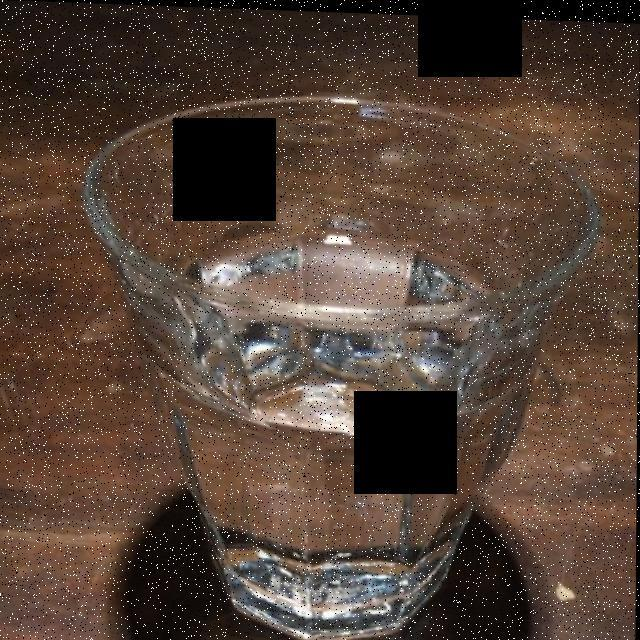water: (152, 225, 527, 622)
